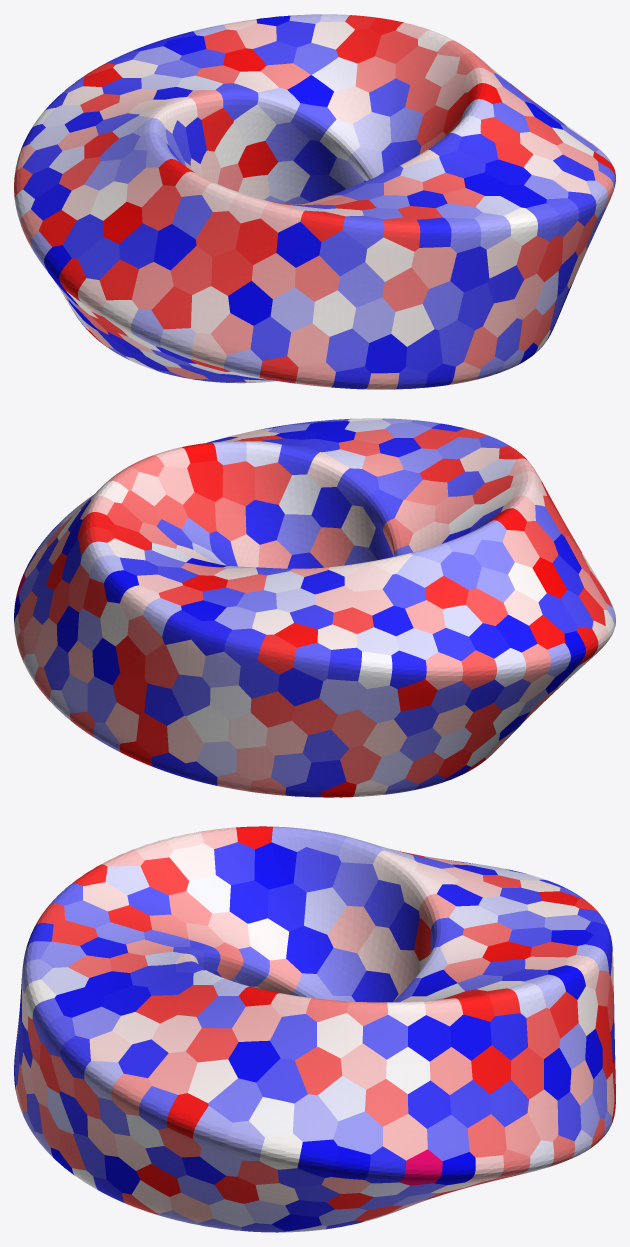
File: Ours_600_mobius1_Iter49_RVD.obj
The picture shows the model from 3 angles, top to bottom: view 1: azimuth 30°, elevation 25°; view 2: azimuth 150°, elevation 25°; view 3: azimuth 270°, elevation 25°; orthographic projection. The views are drawn at different scales.
Parts seen in each view (by area): view 1: 3D_Object; view 2: 3D_Object; view 3: 3D_Object.
Boxes of the visible parts, bbox=[...] form: 3D_Object: bbox=[14, 14, 615, 389]; 3D_Object: bbox=[14, 418, 615, 797]; 3D_Object: bbox=[14, 826, 615, 1232].
Bounding box in the file's own units: 6.8 × 2.63 × 6.26.
1 material, 1 textured.
